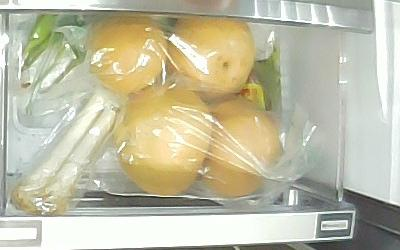pear_vinyl: (115, 83, 213, 195), (200, 98, 282, 198), (170, 18, 256, 107), (86, 15, 169, 94)
